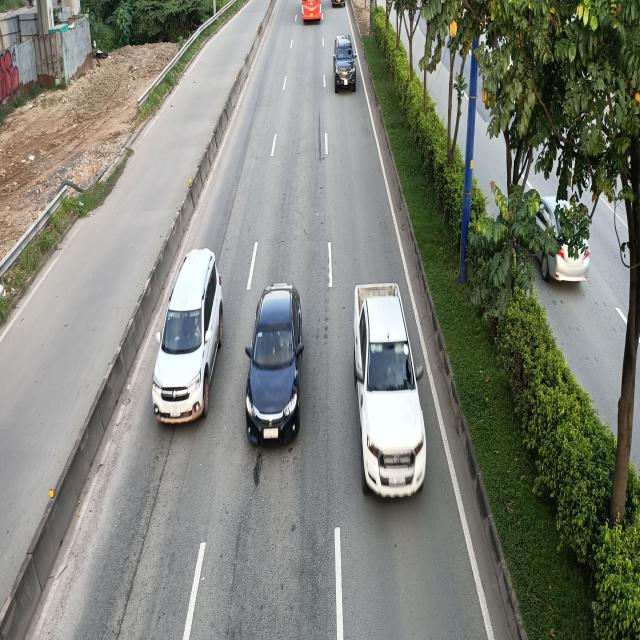car: (350, 284, 425, 499), (154, 251, 226, 424), (246, 285, 305, 443), (334, 34, 358, 90)
